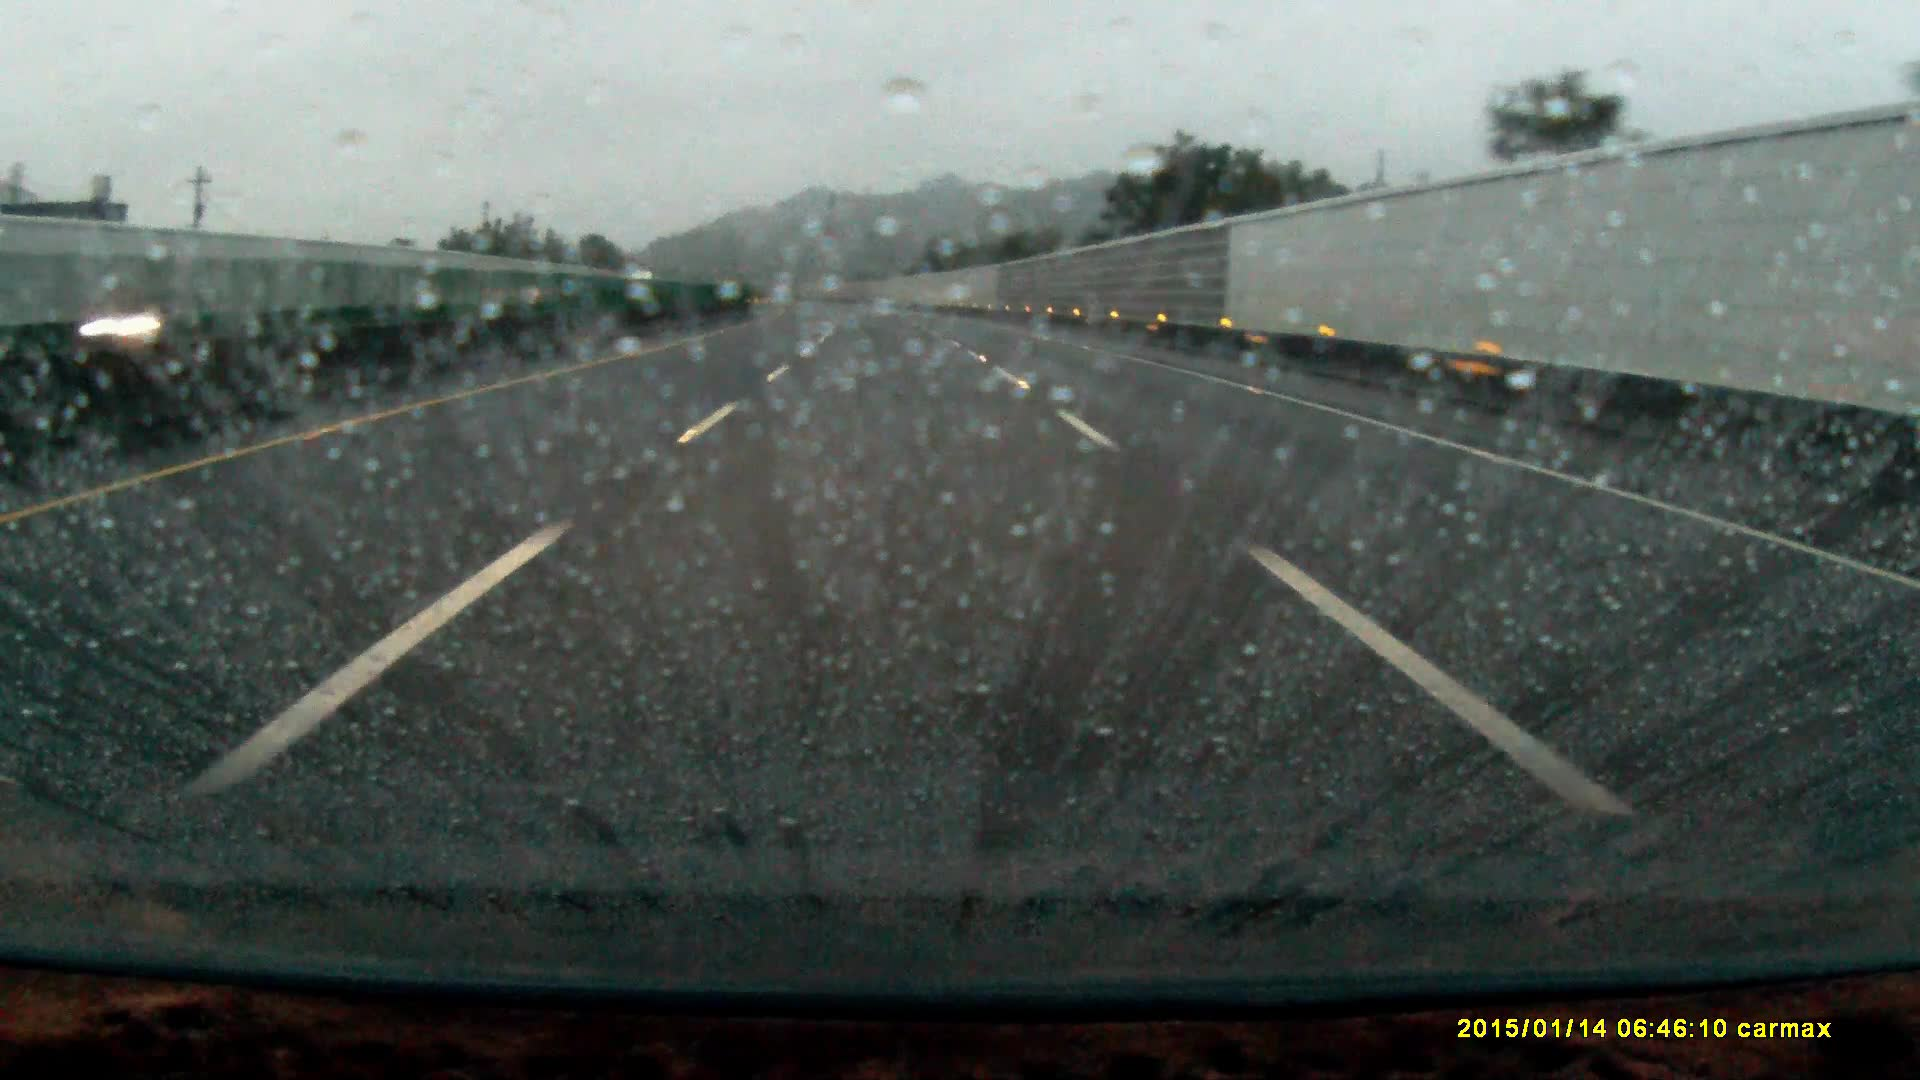vehicle: (108, 293, 178, 344)
